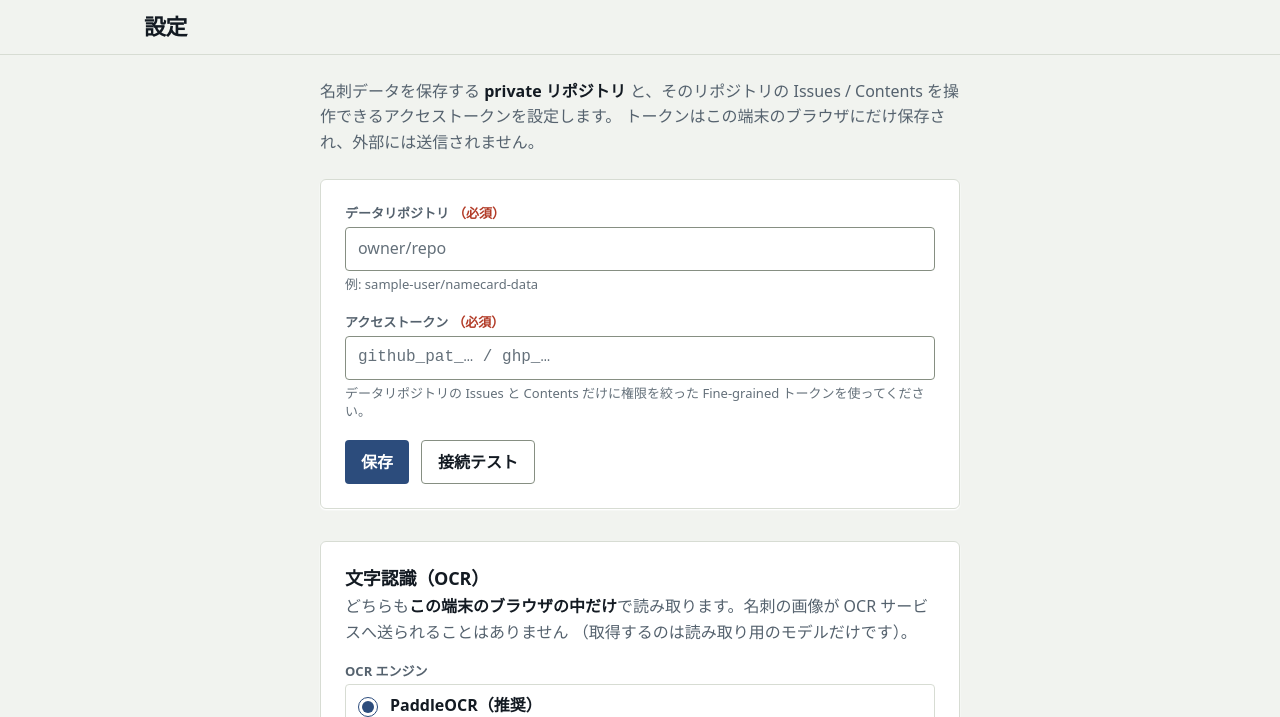
Test: 設定画面 / 接続テストのエラー分岐 › 形式が不正なら接続テストは通信せずエラーになる
The width and height of the screenshot is (1280, 717).
Type "bad repo name" into the field labelled "データリポジトリ（必須）" at (640,249), box [345,227,935,271]
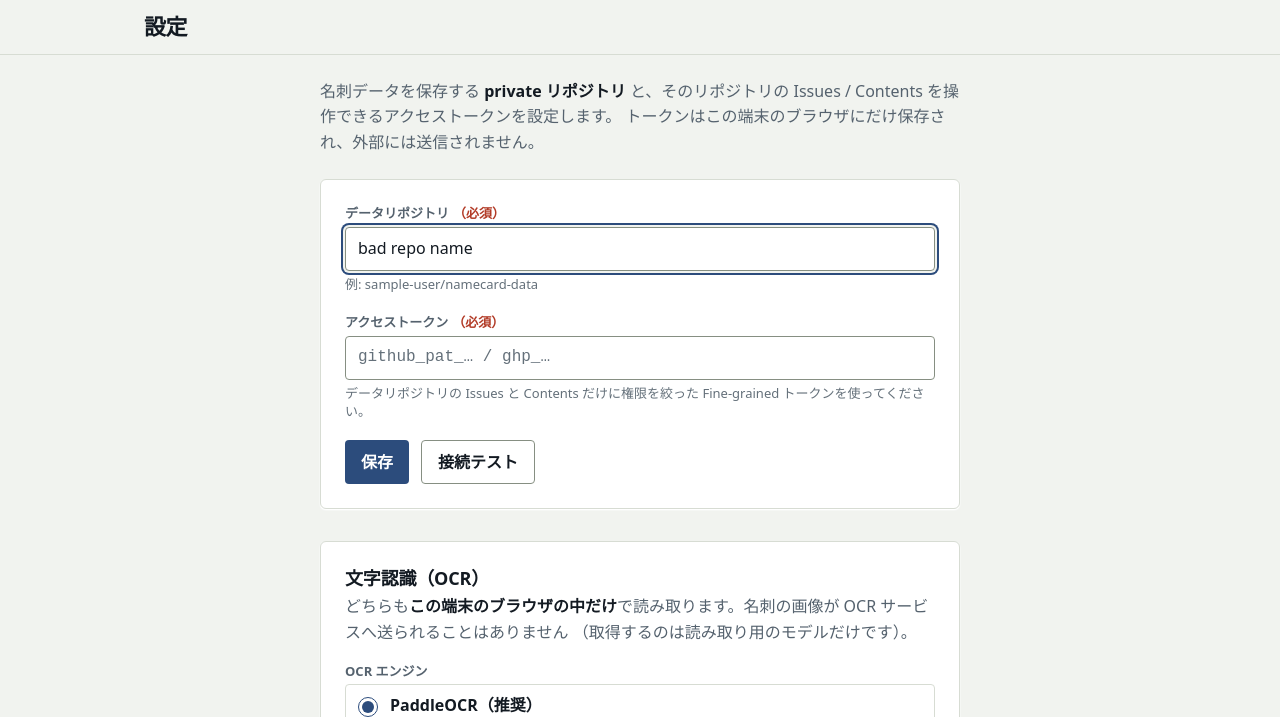
Type "ghp_dummy" into the password field named "アクセストークン" at (640,358), box [345,336,935,380]
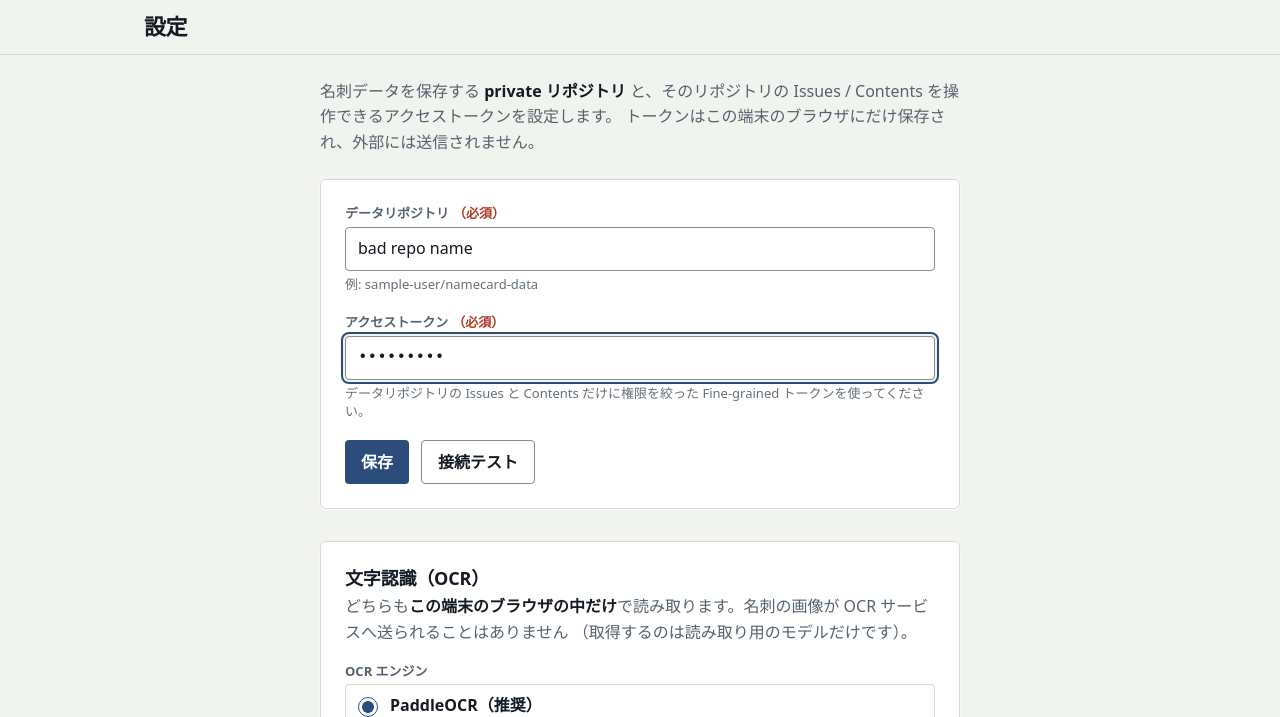
Click the button "接続テスト" at (478,462), box [421,440,535,484]
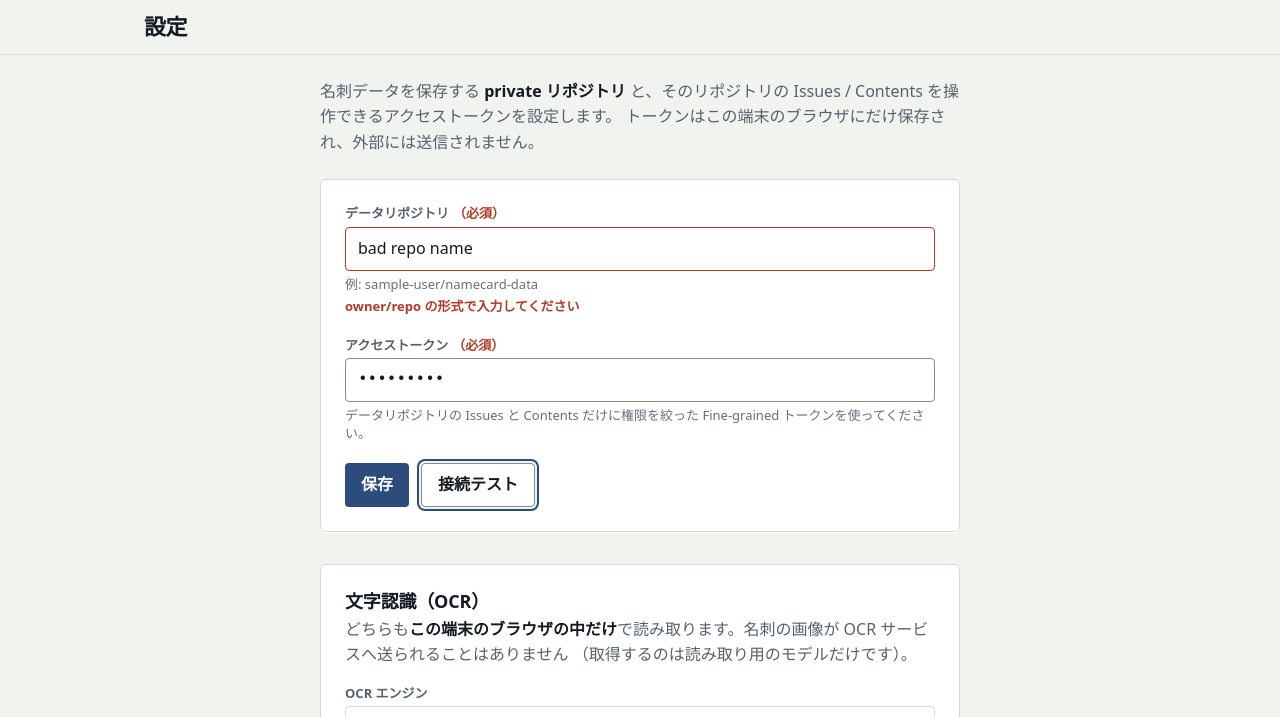
Check: the text "owner/repo の形式で入力してください" is shown, box [345,297,580,315]
